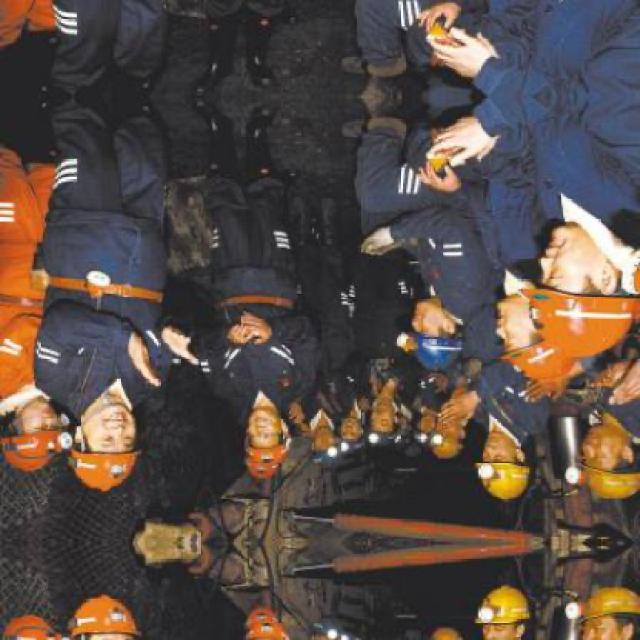con casco: (60, 400, 158, 504), (504, 326, 606, 384), (18, 386, 86, 458), (397, 306, 464, 370), (230, 434, 320, 480)
